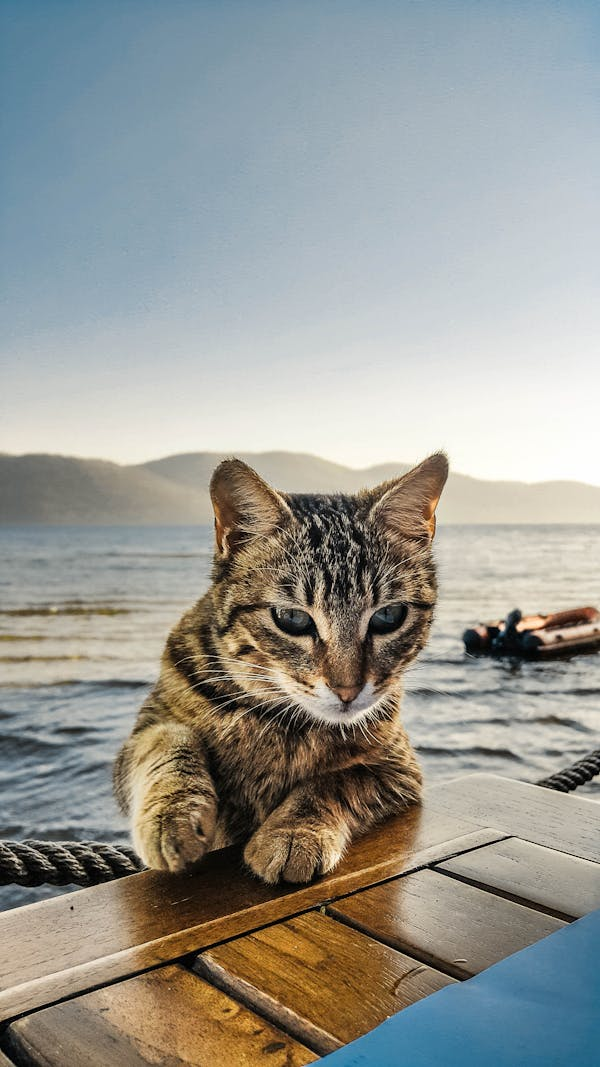Cat: (113, 448, 452, 888)
